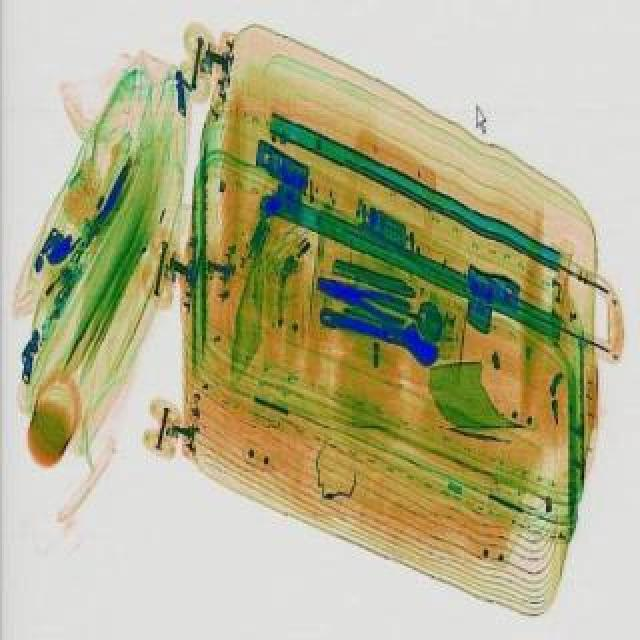scissors: (310, 294, 446, 368)
wrench: (308, 268, 412, 326)
